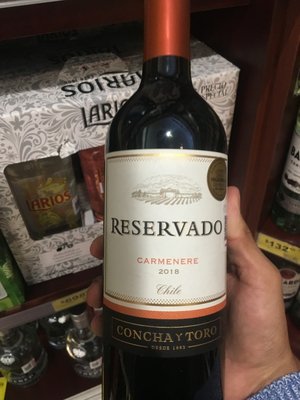reservado carmenere: (101, 14, 238, 400)
